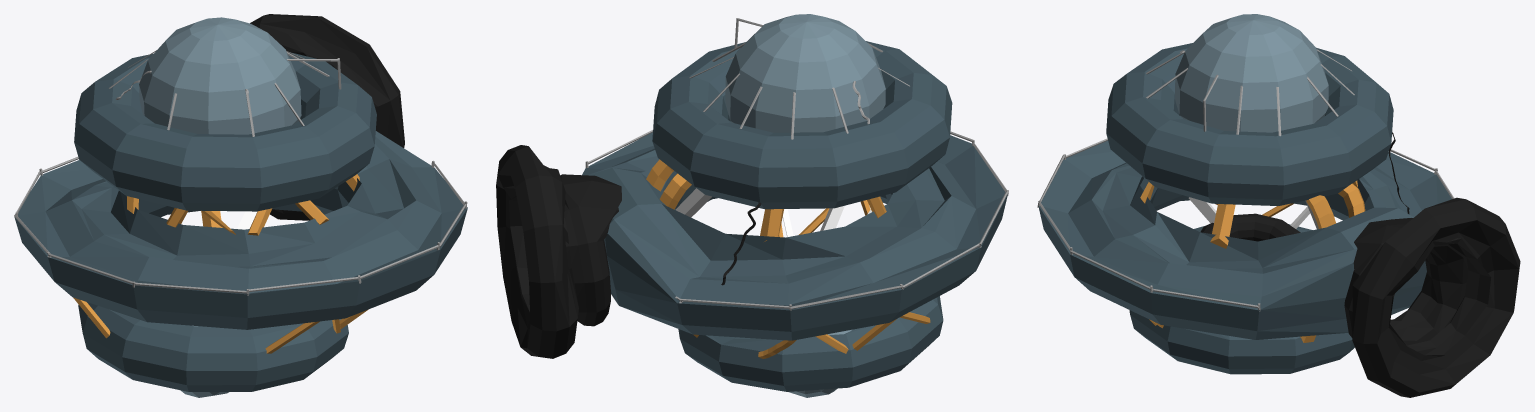
The picture shows the model from 3 angles, left to right: view 1: azimuth 30°, elevation 25°; view 2: azimuth 150°, elevation 25°; view 3: azimuth 270°, elevation 25°; orthographic projection. The views are drawn at different scales.
Parts seen in each view (by area): view 1: mesh_1498593408, mesh_1654760740, mesh_1149225797, mesh_1146782705, mesh_1027057115, group_820761489, group_1583754057; view 2: mesh_1498593408, mesh_1654760740, mesh_1149225797, mesh_1027057115, mesh_1146782705, mesh_1559416060, group_280964221, group_2036939522, group_1356788217, group_1008630076; view 3: mesh_1498593408, mesh_1654760740, mesh_1027057115, mesh_1149225797, mesh_1146782705, mesh_1559416060, mesh_1683185483, group_2006633403, group_1008630076, group_280964221.
Boxes of the visible parts, x1,y1,x2,y2 form: mesh_1498593408: [14, 131, 467, 329]; mesh_1654760740: [74, 52, 376, 211]; mesh_1149225797: [139, 17, 301, 134]; mesh_1146782705: [78, 302, 348, 391]; mesh_1027057115: [250, 14, 404, 220]; group_820761489: [265, 321, 319, 353]; group_1583754057: [295, 200, 328, 224]; mesh_1498593408: [582, 132, 1007, 340]; mesh_1654760740: [652, 41, 952, 209]; mesh_1149225797: [725, 14, 885, 132]; mesh_1027057115: [496, 145, 578, 358]; mesh_1146782705: [678, 296, 943, 391]; mesh_1559416060: [560, 174, 621, 326]; group_280964221: [659, 173, 691, 209]; group_2036939522: [760, 209, 783, 241]; group_1356788217: [676, 188, 711, 217]; group_1008630076: [646, 159, 673, 191]; mesh_1498593408: [1038, 141, 1451, 339]; mesh_1654760740: [1106, 43, 1393, 205]; mesh_1027057115: [1352, 197, 1520, 397]; mesh_1149225797: [1175, 14, 1328, 132]; mesh_1146782705: [1129, 224, 1354, 374]; mesh_1559416060: [1344, 218, 1468, 345]; mesh_1683185483: [1200, 213, 1300, 241]; group_2006633403: [1210, 204, 1235, 248]; group_1008630076: [1306, 195, 1335, 228]; group_280964221: [1338, 183, 1365, 217].
Bounding box in the file's own units: 167 × 140 × 175.
